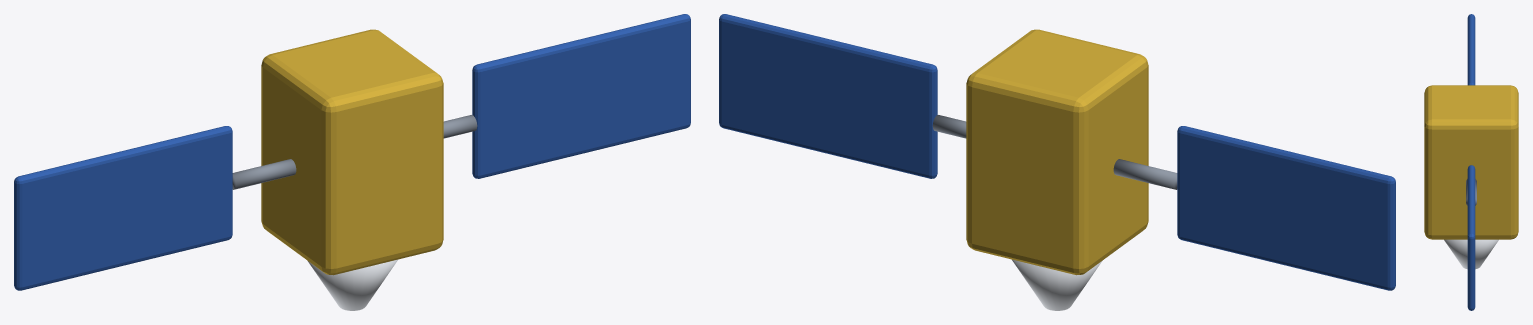
File: satelite.glb
3 renders of one model, left to right at view 1: azimuth 30°, elevation 25°; view 2: azimuth 150°, elevation 25°; view 3: azimuth 270°, elevation 25°, orthographic. The views are drawn at different scales.
Parts seen in each view (by area): view 1: Cube, Cube.001, Cube.002, Cone, Cylinder, Cylinder.001; view 2: Cube, Cube.001, Cube.002, Cone, Cylinder, Cylinder.001; view 3: Cube, Cube.002, Cone, Cube.001, Cylinder.001.
Boxes of the visible parts, bbox=[...] form: Cube: bbox=[261, 29, 443, 275]; Cube.001: bbox=[14, 126, 232, 290]; Cube.002: bbox=[472, 14, 690, 178]; Cone: bbox=[308, 259, 397, 310]; Cylinder: bbox=[232, 159, 296, 189]; Cylinder.001: bbox=[443, 115, 477, 138]; Cube: bbox=[966, 29, 1148, 275]; Cube.001: bbox=[1177, 126, 1395, 290]; Cube.002: bbox=[719, 14, 937, 178]; Cone: bbox=[1012, 259, 1101, 310]; Cylinder: bbox=[1113, 159, 1177, 189]; Cylinder.001: bbox=[932, 115, 966, 138]; Cube: bbox=[1424, 85, 1518, 239]; Cube.002: bbox=[1467, 165, 1475, 310]; Cone: bbox=[1444, 239, 1498, 269]; Cube.001: bbox=[1467, 14, 1475, 85]; Cylinder.001: bbox=[1466, 179, 1476, 205].
Size of the model in its own units: 2.8 by 0.955 by 0.5.
